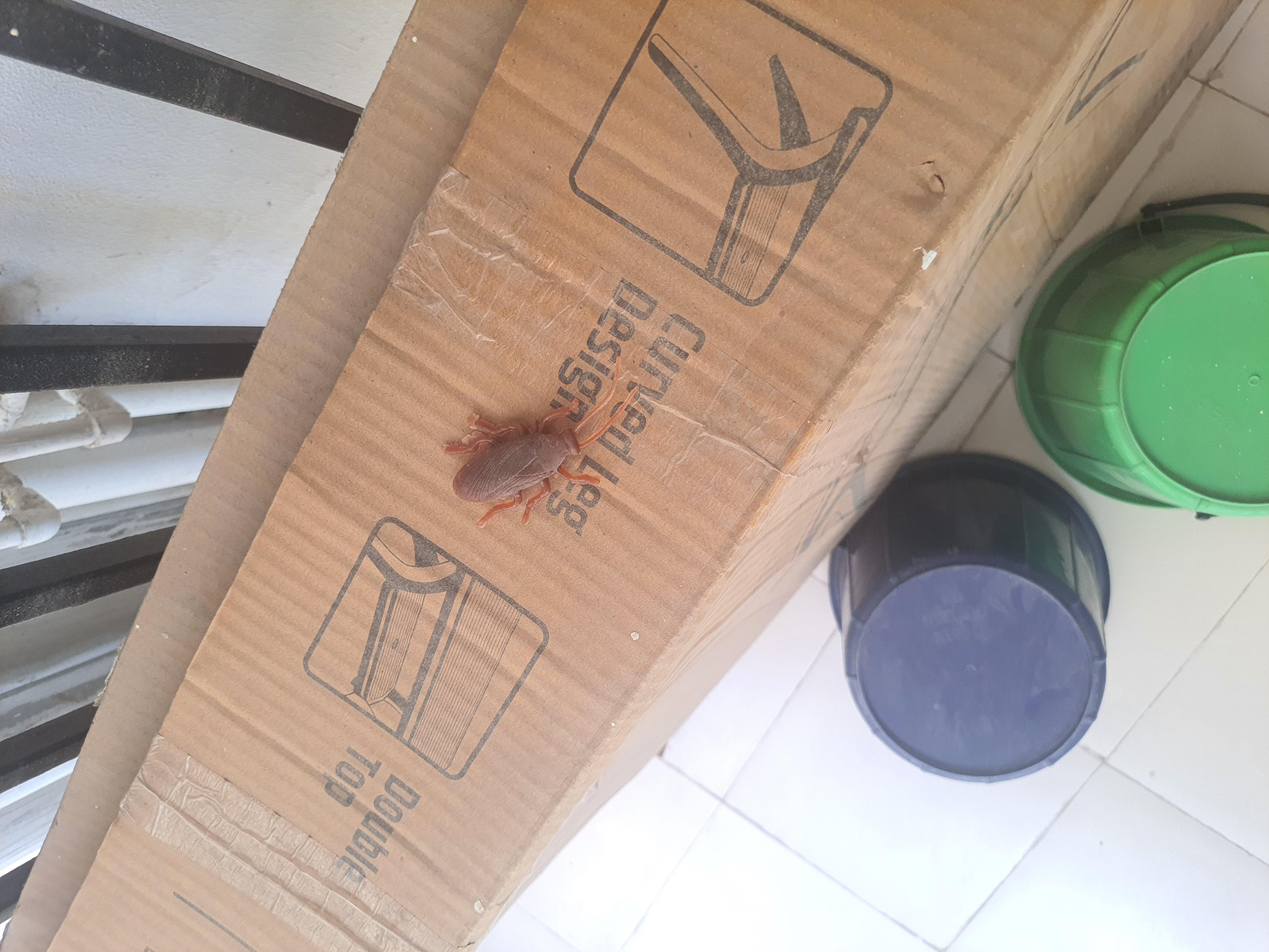cockroach: (543, 330, 769, 474)
